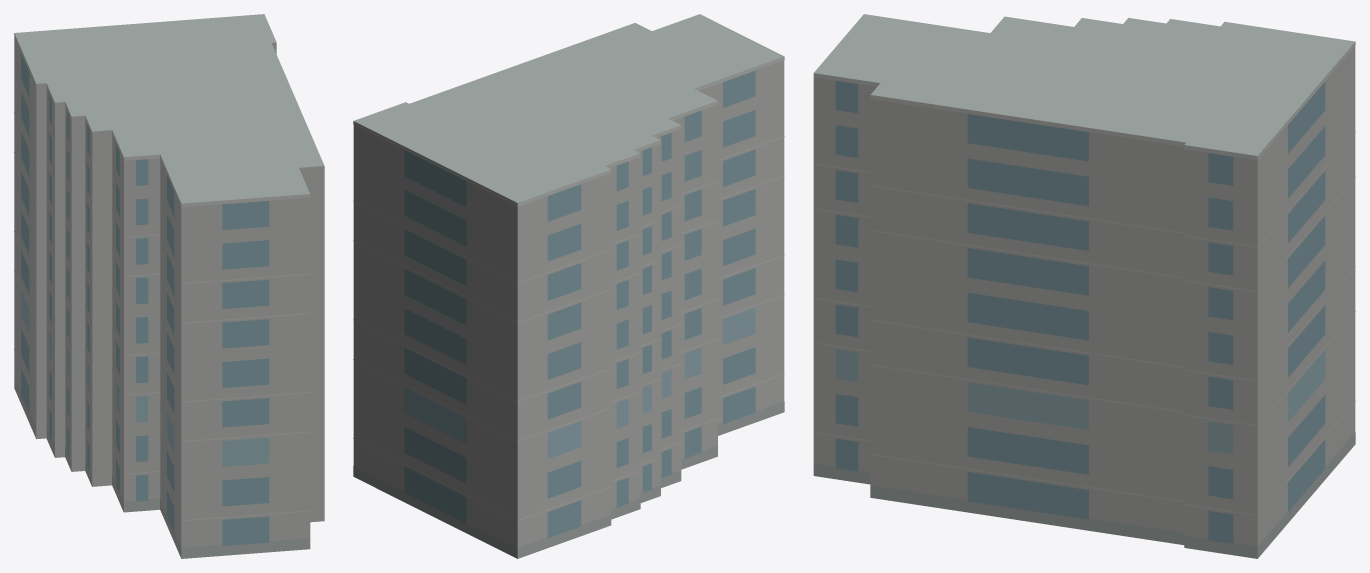
The model's file is survey-upis-32666187.glb.
3 views of the same model, side by side, from view 1: azimuth 30°, elevation 25°; view 2: azimuth 150°, elevation 25°; view 3: azimuth 270°, elevation 25° (orthographic). The views are drawn at different scales.
Visible parts, largest first — view 1: survey-upis-32666187.tmp; view 2: survey-upis-32666187.tmp; view 3: survey-upis-32666187.tmp.
Boxes of the visible parts, x1,y1,x2,y2 form: survey-upis-32666187.tmp: (14,14,324,558); survey-upis-32666187.tmp: (353,14,784,558); survey-upis-32666187.tmp: (813,14,1355,558).
Size of the model in its own units: 17.09 by 22.57 by 27.53.
